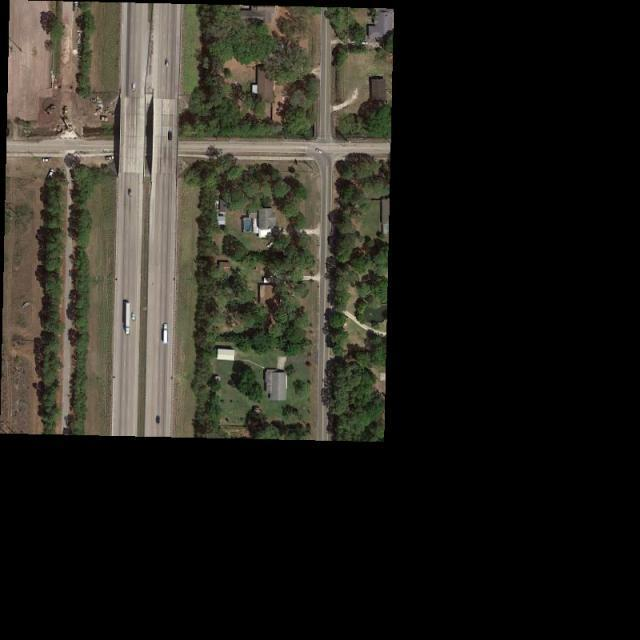vehicle: (125, 303, 130, 335), (162, 324, 169, 344), (46, 168, 54, 178), (266, 242, 275, 250), (315, 147, 324, 155), (42, 158, 53, 163), (127, 188, 133, 197), (168, 132, 173, 142), (106, 155, 114, 161), (131, 313, 136, 322), (132, 82, 136, 93), (166, 58, 170, 67), (360, 42, 368, 46), (156, 416, 160, 423)
